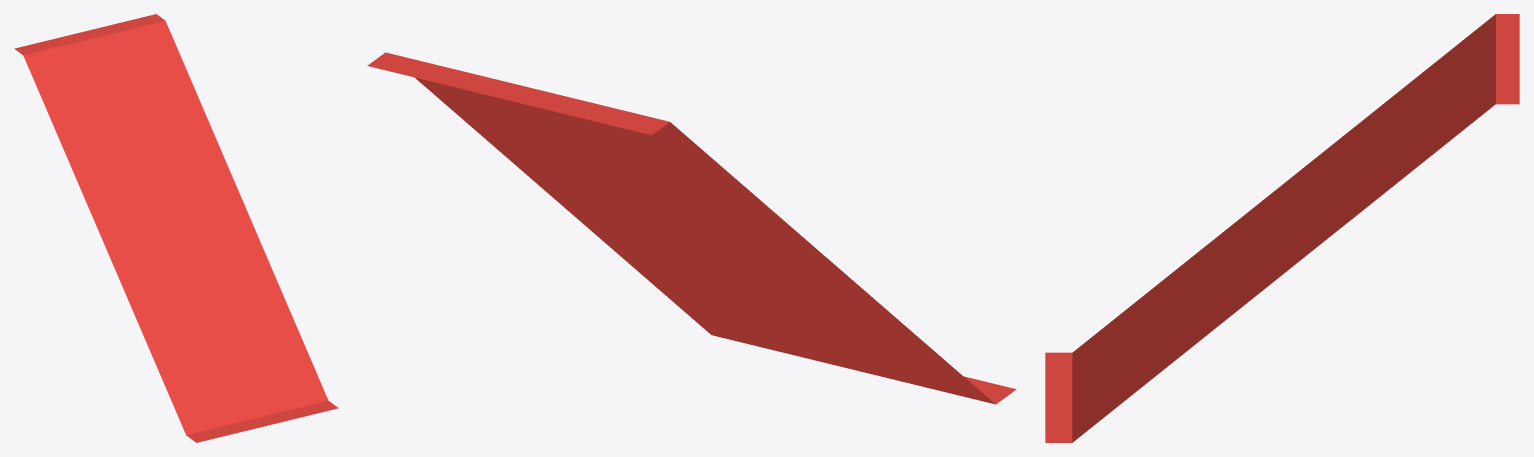
File: nav_level_stair.fbx
3 views of the same model, side by side, from view 1: azimuth 30°, elevation 25°; view 2: azimuth 150°, elevation 25°; view 3: azimuth 270°, elevation 25° (orthographic). The views are drawn at different scales.
Visible parts, largest first — view 1: nav_remake.stair; view 2: nav_remake.stair; view 3: nav_remake.stair.
Part boxes in pixels (x1,y1,x2,y2): nav_remake.stair: (14,14,338,442); nav_remake.stair: (367,52,1016,404); nav_remake.stair: (1045,14,1519,442).
Bounding box in the file's own units: 3000 × 5252 × 6669.
